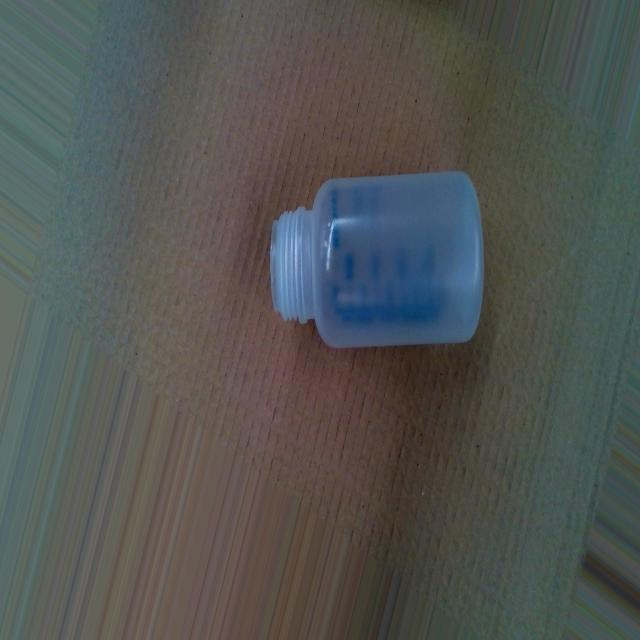bottle: (269, 166, 486, 352)
